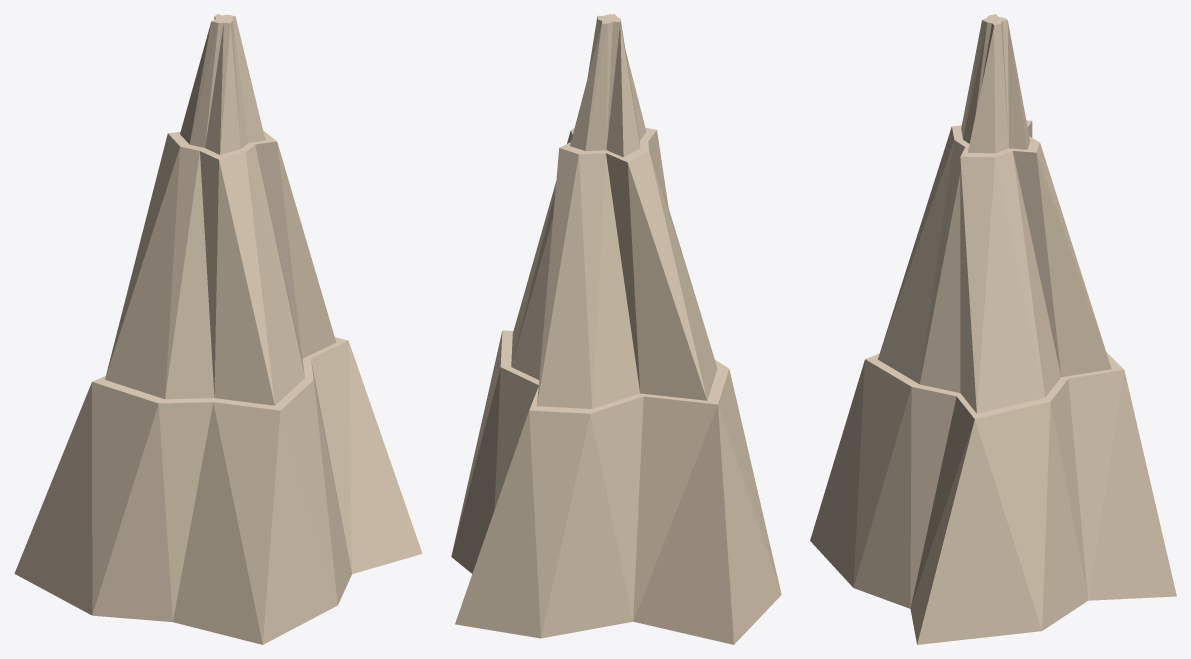
File: Mountain.fbx
3 views of the same model, side by side, from view 1: azimuth 30°, elevation 25°; view 2: azimuth 150°, elevation 25°; view 3: azimuth 270°, elevation 25° (orthographic).
Visible parts, largest first — view 1: Mountain; view 2: Mountain; view 3: Mountain.
Part boxes in pixels (x1,y1,x2,y2): Mountain: (14,14,422,644); Mountain: (451,14,781,644); Mountain: (810,14,1176,644).
Size of the model in its own units: 14625 by 23360 by 14205.
